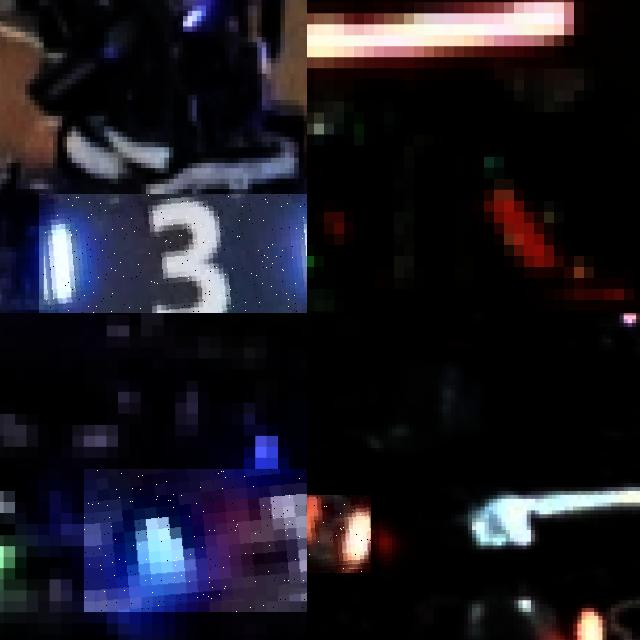B3: (39, 194, 307, 313)
B5: (83, 468, 307, 612)
Rs: (307, 495, 371, 573), (581, 596, 640, 640)
